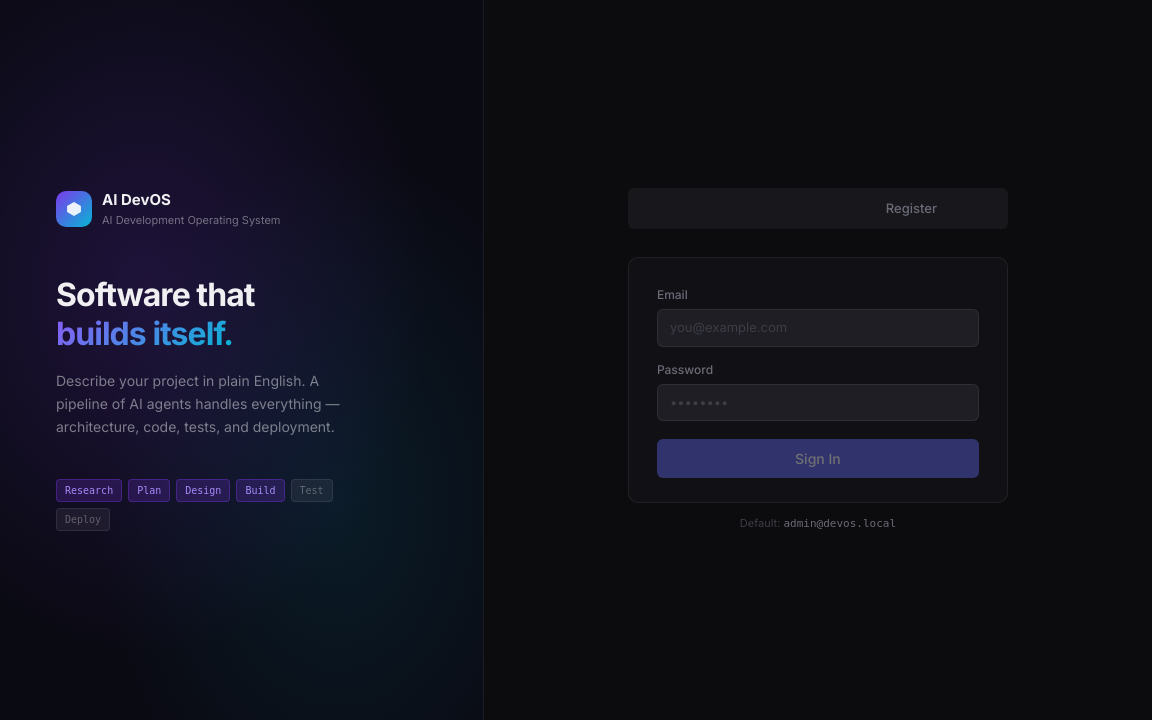
LoginPage — sign-in mode › shows 'Authentication failed' when login() throws a non-Error value
The image size is (1152, 720).
Type "bad@x.com" into the field with placeholder "you@example.com" at (818, 328), box [657,309,979,346]
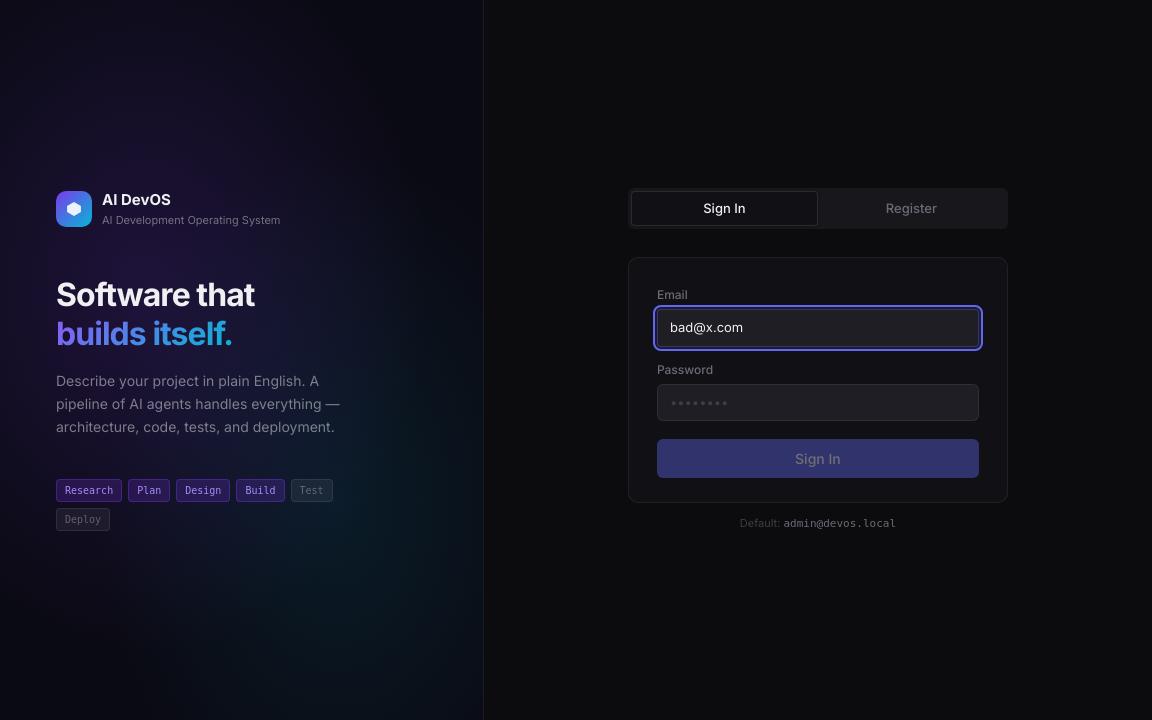
Type "wrongpass" into the password field with placeholder "••••••••" at (818, 402), box [657,384,979,421]
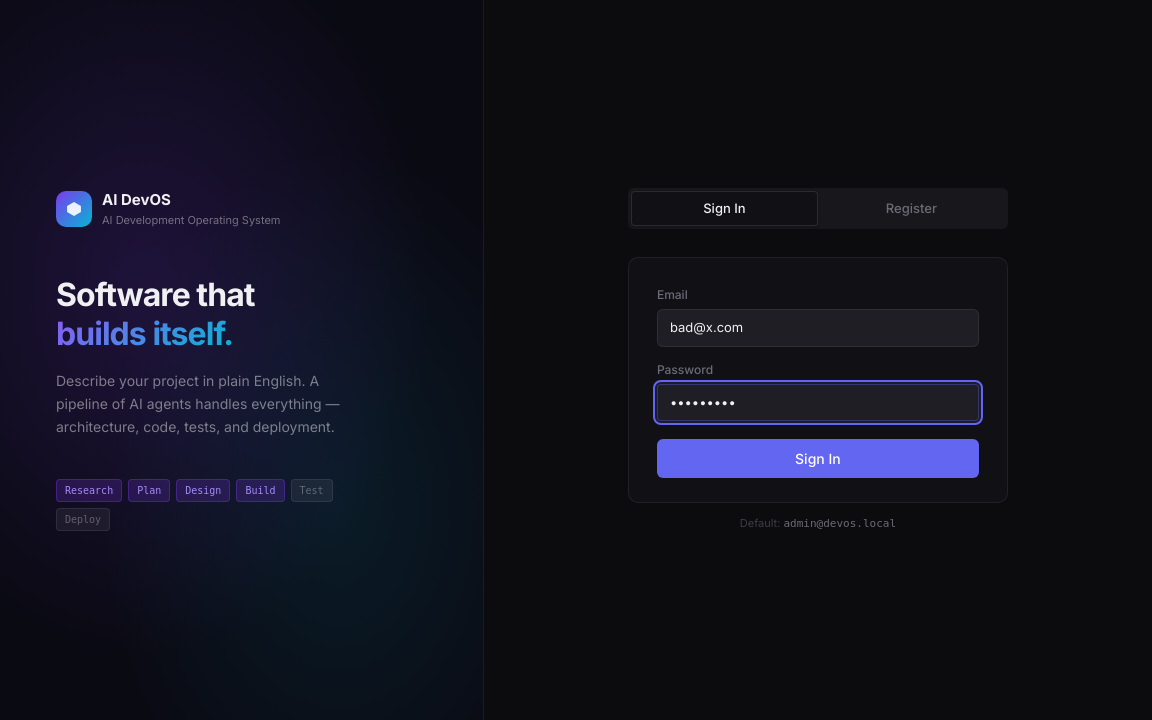
Click the button "Sign In" below "Password" at (818, 458), box [657,439,979,478]
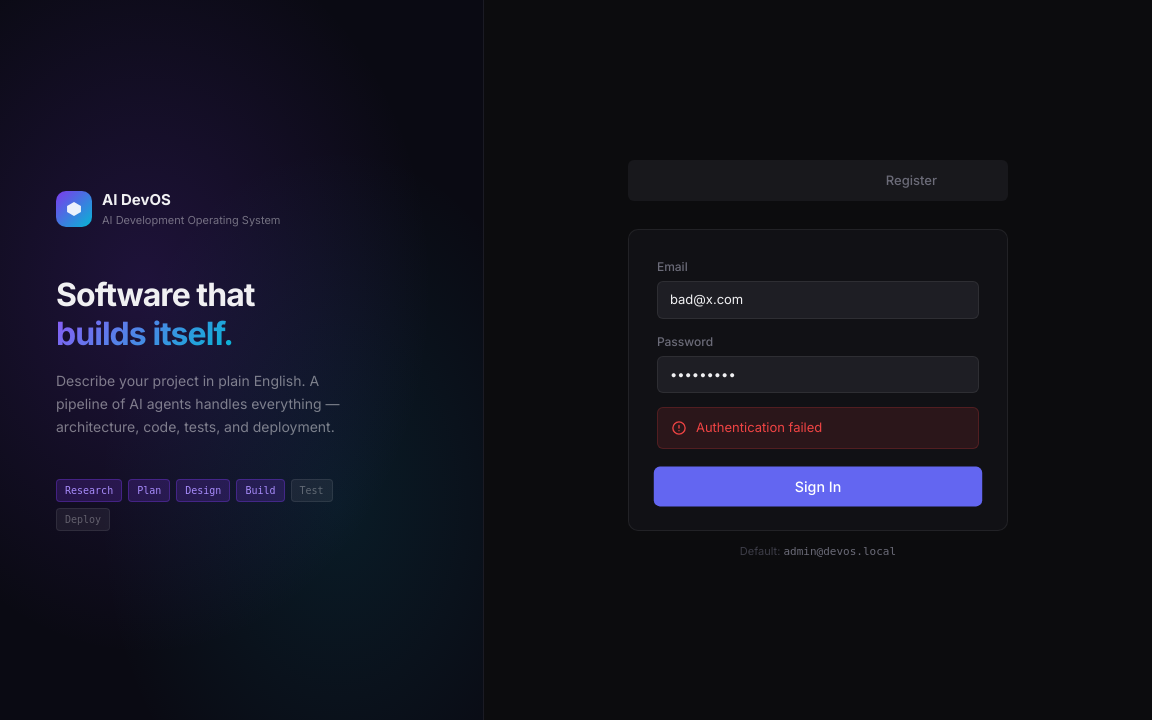
Expected: the text "Authentication failed" is shown, [657,407,979,449]
